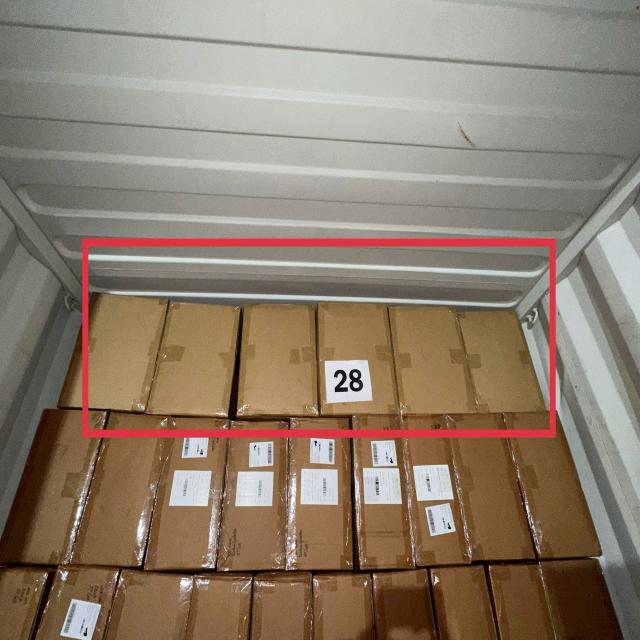Carton: (59, 282, 169, 418), (143, 292, 245, 416), (235, 294, 324, 424), (387, 298, 482, 418), (312, 292, 402, 416), (456, 298, 550, 414)
